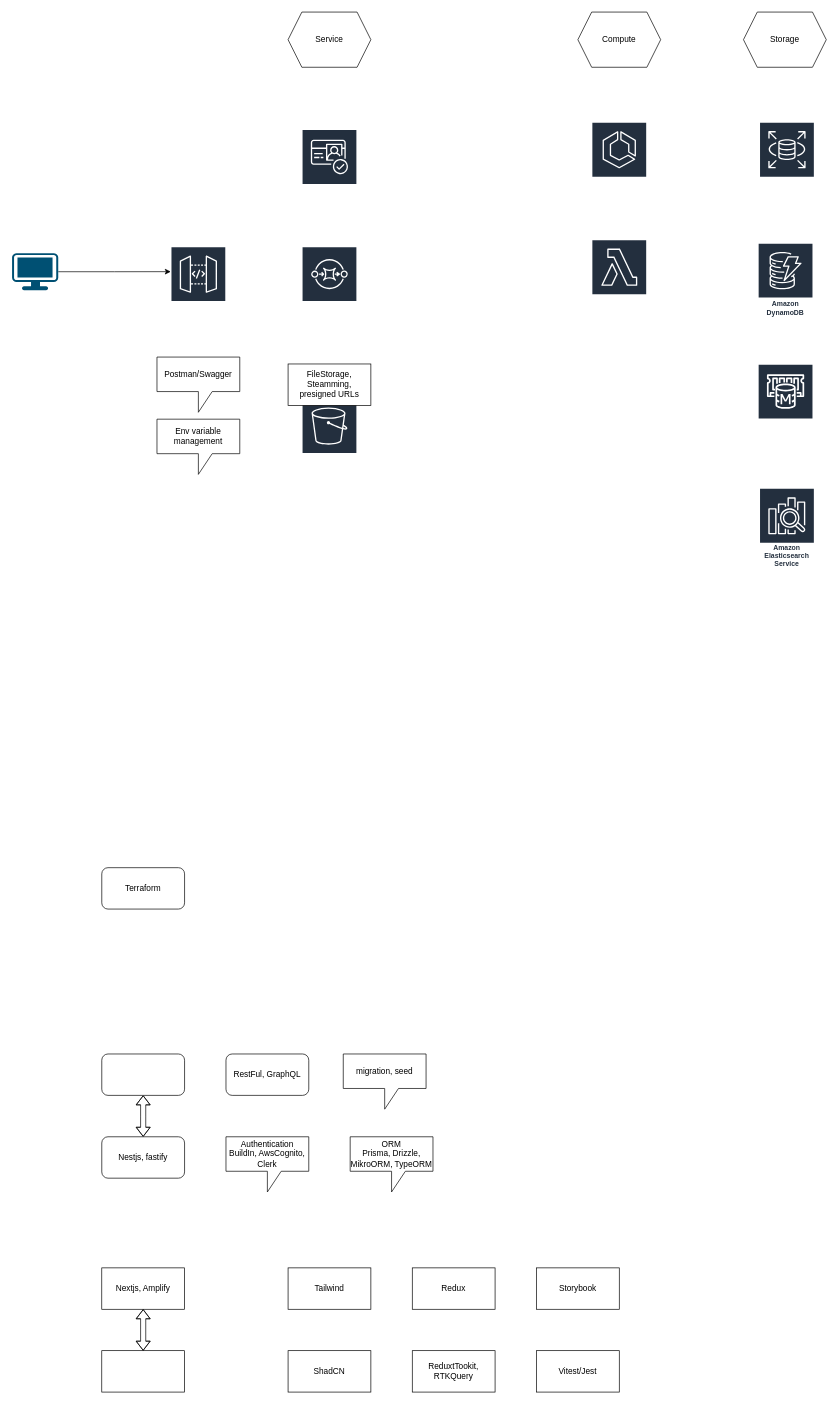
This 838x1404 diagram has some shape labels left out. The shapes that lost their labels are listed below. From the top down, each one's centre as x and y in pixels, then its label:
the point at 329,167: Amazon Cognito
the point at 619,156: Amazon ECS
the point at 787,156: Amazon RDS
the point at 198,284: Amazon API Gateway
the point at 329,281: Amazon SQS
the point at 619,274: AWS Lambda
the point at 785,405: Amazon ElastiCache for Memcached
the point at 329,432: Amazon S3
the point at 143,1074: Express.js
the point at 143,1371: Vite, S3, CloudFront, CodePipeline
